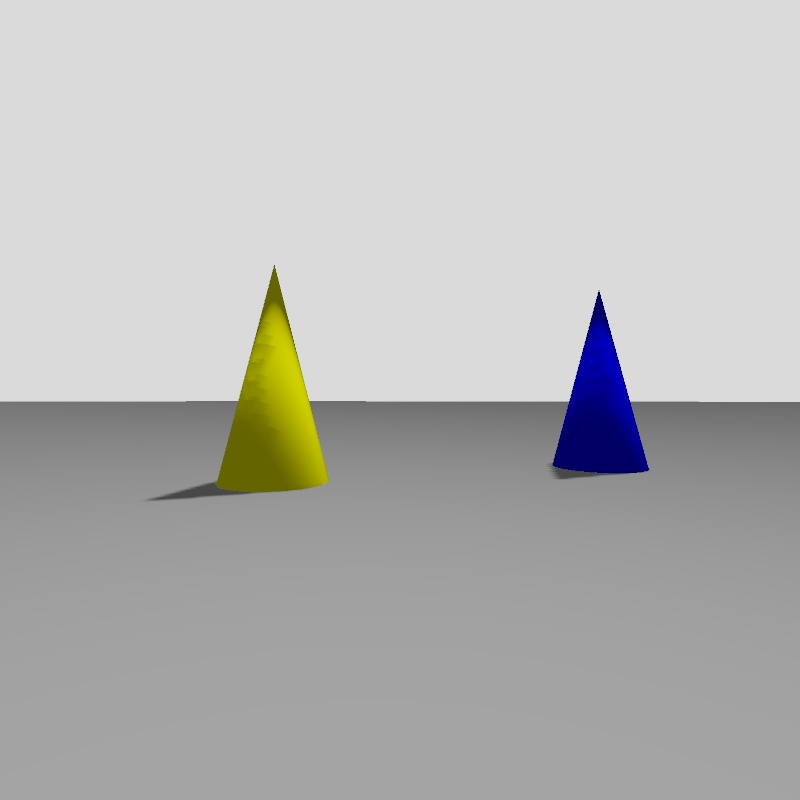Blue_cone: (553, 292, 648, 473)
Yellow_cone: (216, 268, 327, 490)
